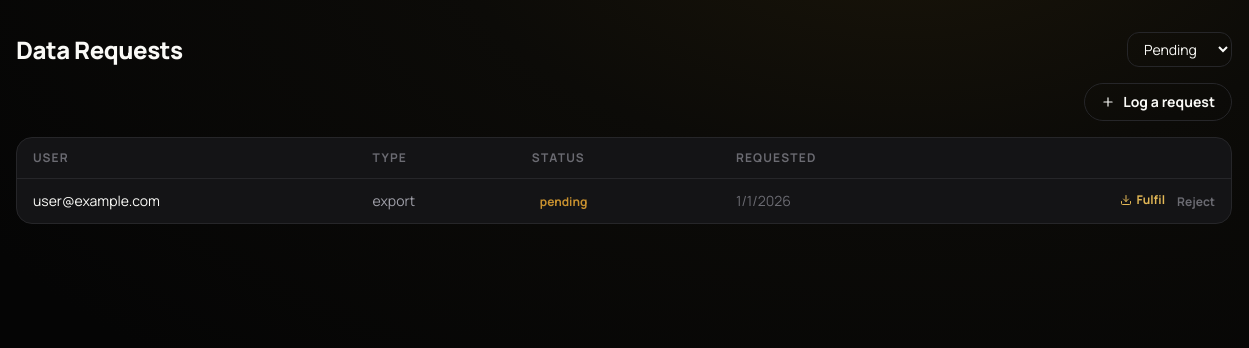
Test: DataRequests (admin) › logging a request that arrived outside the app › submits email + type and reloads the list
Expected: the table with test id "admin-datarequests-table" is shown, [17, 138, 1231, 223]
Click the button with test id "admin-datarequests-log-toggle-btn". click: (1158, 102)
box: [1084, 83, 1232, 121]
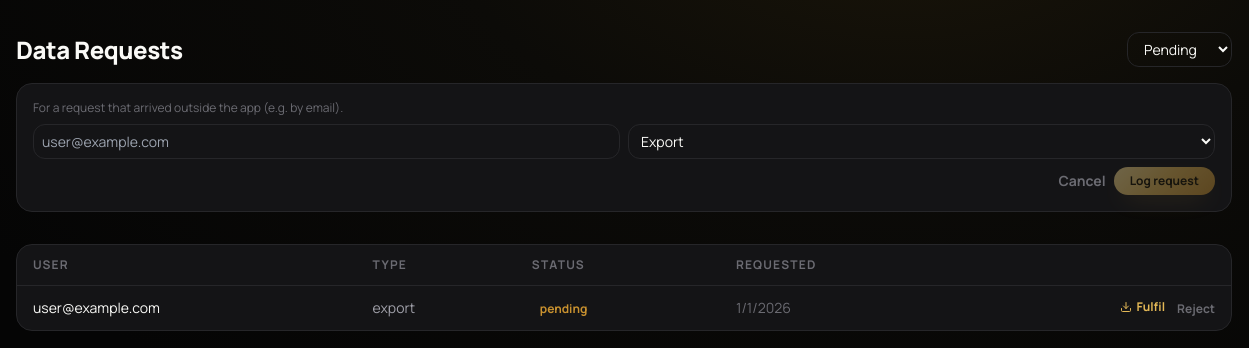
Type "someone@example.com" into the field with test id "admin-datarequests-log-email-input". click: (326, 142)
box: [33, 124, 620, 159]
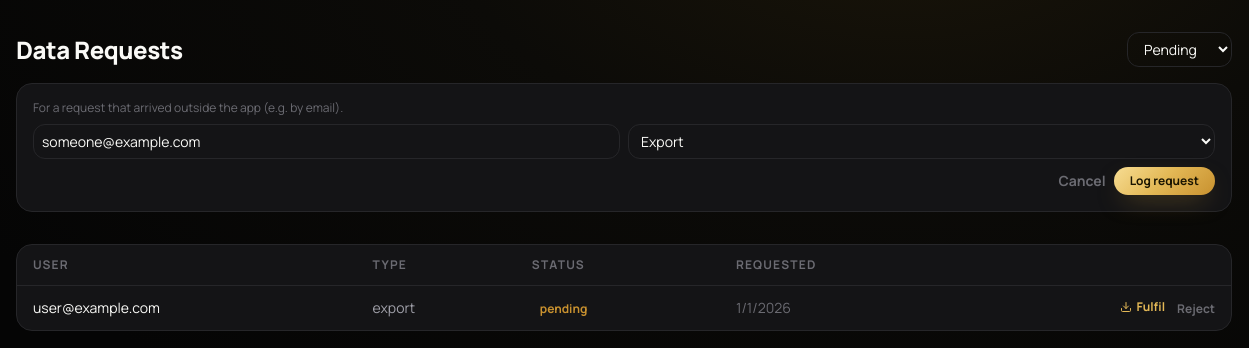
Select "Delete" in the dropdown with test id "admin-datarequests-log-type-select". click: (922, 142)
box: [628, 124, 1215, 159]
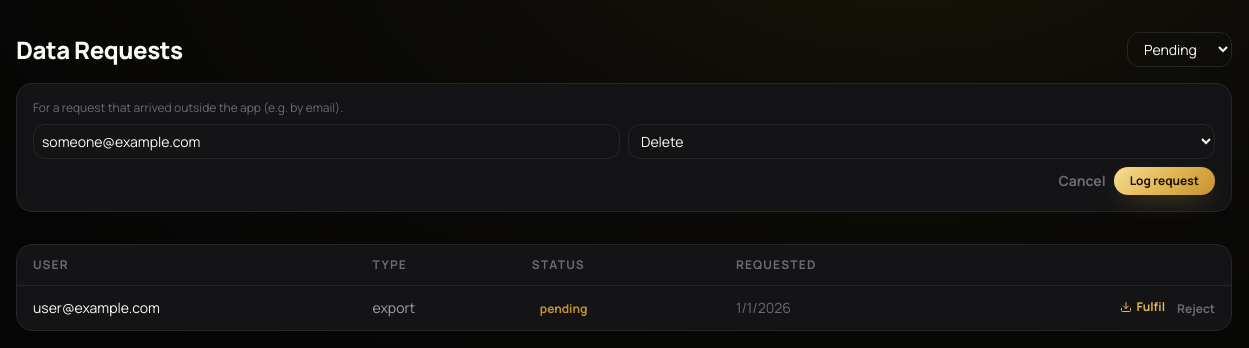
Click the button with test id "admin-datarequests-log-submit-btn". click: (1164, 181)
box: [1114, 167, 1215, 195]
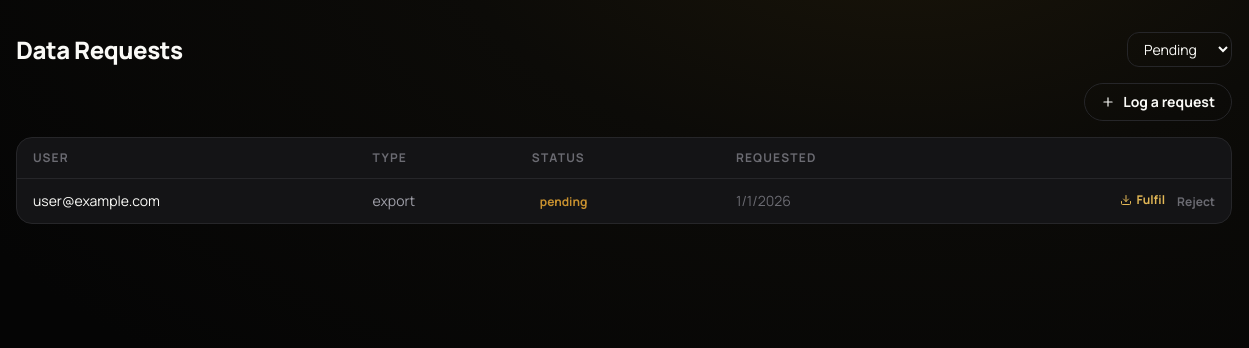
Result: the field with test id "admin-datarequests-log-email-input" is gone
